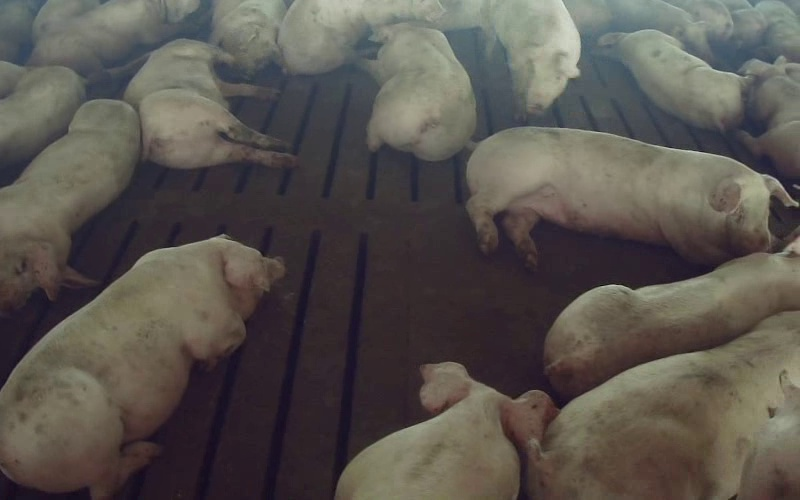pig: (0, 237, 283, 499), (528, 311, 799, 499), (467, 127, 796, 266), (544, 236, 799, 396), (336, 362, 558, 499), (0, 99, 139, 313), (124, 39, 297, 168), (362, 23, 475, 160), (598, 29, 745, 131), (278, 0, 443, 73), (481, 0, 580, 120), (0, 66, 85, 167), (737, 57, 799, 178), (210, 0, 285, 74)
